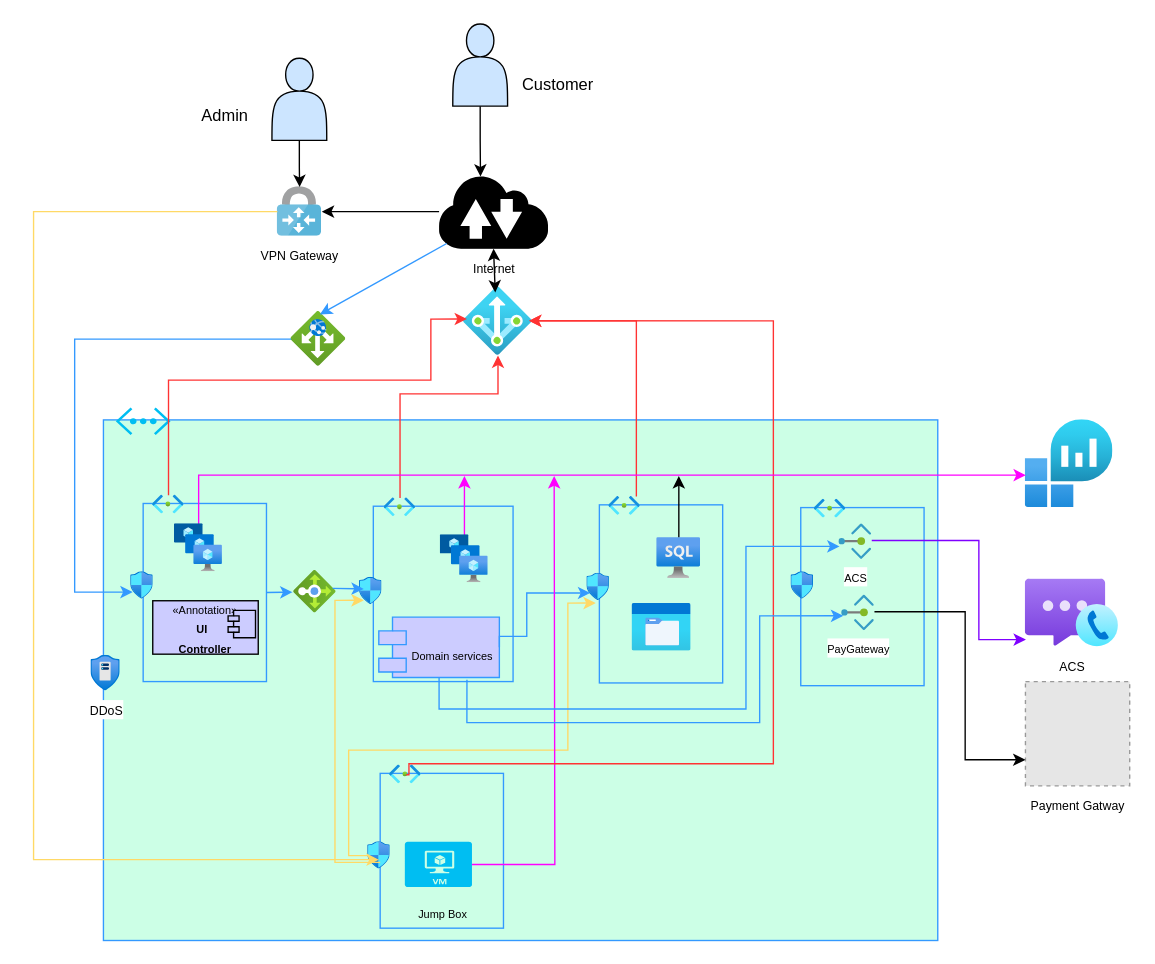
This 1155x964 diagram has some shape labels left out. Grey dashed boxes stand in for pictures. The shapes that lost their labels are listed below. From the top down, each one's box as (x1, y1, x2, y2) in pixels, then its label:
(463, 286, 532, 355): NAT Gateway
(115, 407, 170, 434): core services
(1025, 419, 1112, 507): Log Analytics
(292, 570, 334, 612): ILB
(632, 603, 691, 651): Azure Files
